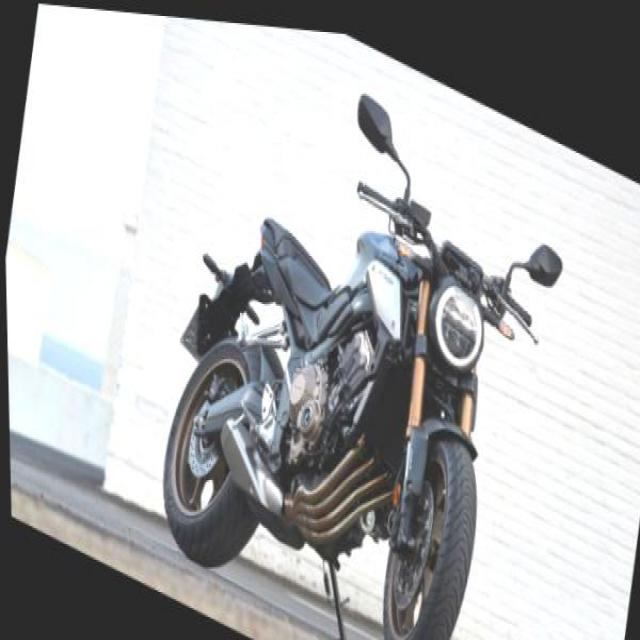CB650R: (136, 103, 520, 638)
